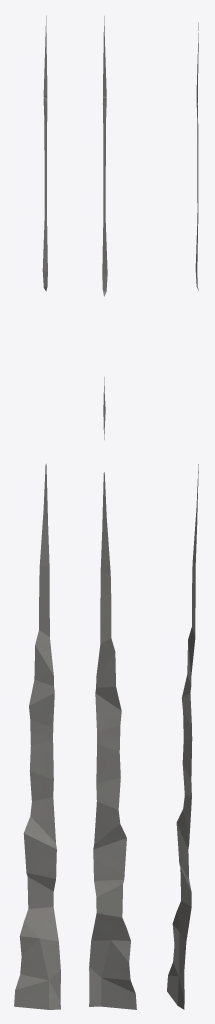
3 views of the same model, side by side, from view 1: azimuth 30°, elevation 25°; view 2: azimuth 210°, elevation 25°; view 3: azimuth 330°, elevation 25° (orthographic).
Bounding box in the file's own units: 0.0187 × 0.5476 × 0.0149.
1 material, 1 textured.
